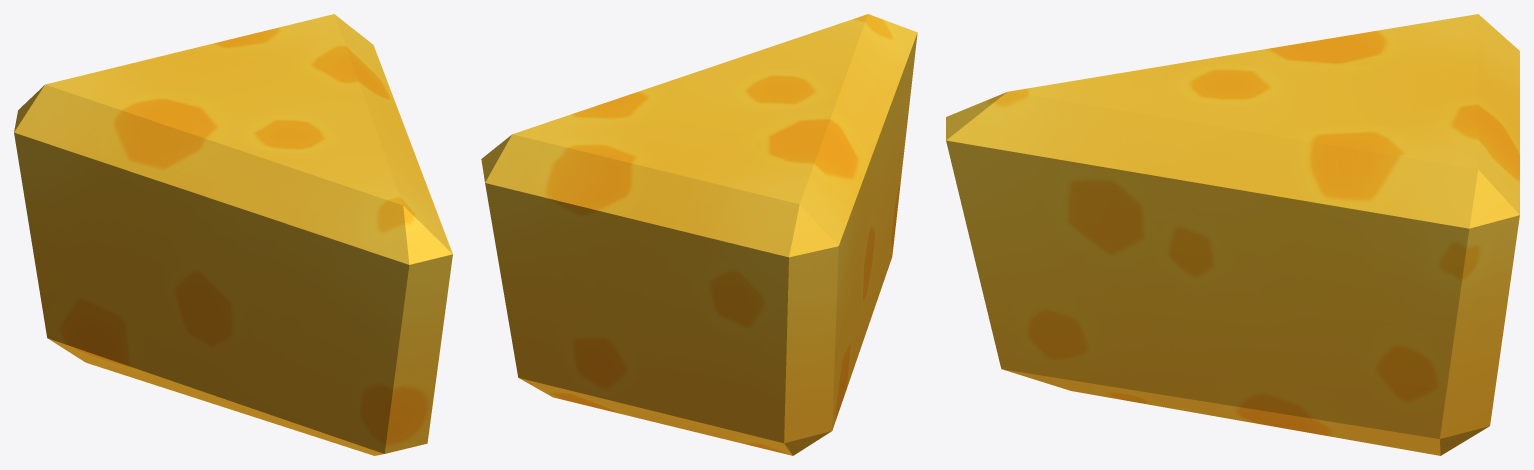
The model's file is RecoveryItem_02.fbx.
3 views of the same model, side by side, from view 1: azimuth 30°, elevation 25°; view 2: azimuth 150°, elevation 25°; view 3: azimuth 270°, elevation 25° (orthographic). The views are drawn at different scales.
Visible parts, largest first — view 1: RecoveryItem; view 2: RecoveryItem; view 3: RecoveryItem.
Part boxes in pixels (x1,y1,x2,y2): RecoveryItem: [14, 14, 452, 455]; RecoveryItem: [481, 14, 917, 455]; RecoveryItem: [946, 14, 1519, 455].
Size of the model in its own units: 40.89 by 29.5 by 51.29.
